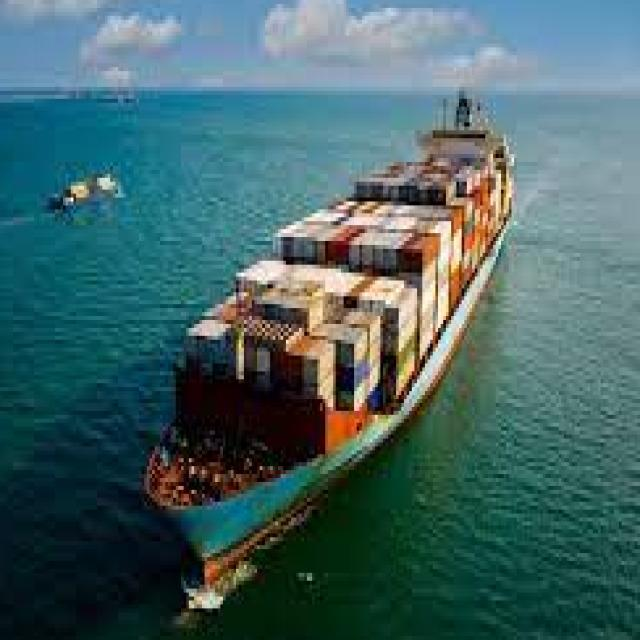cargoship: (149, 87, 519, 576)
fishing boat: (55, 163, 125, 210)
